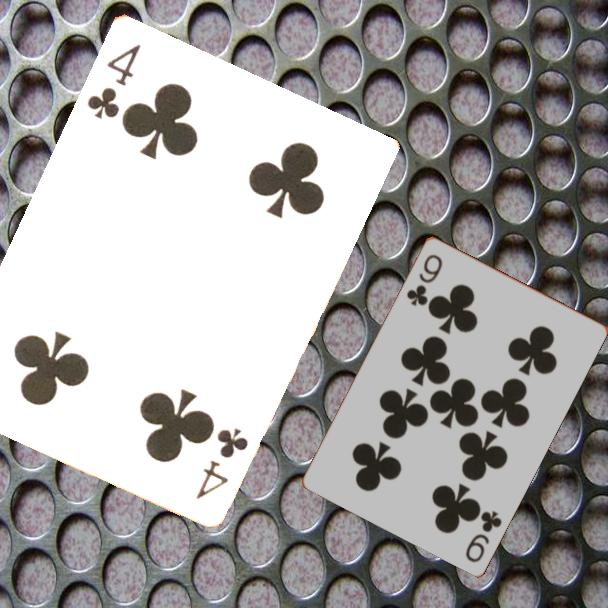c04: (83, 40, 144, 122), (192, 423, 251, 502)
c09: (461, 506, 505, 565), (403, 250, 445, 309)
